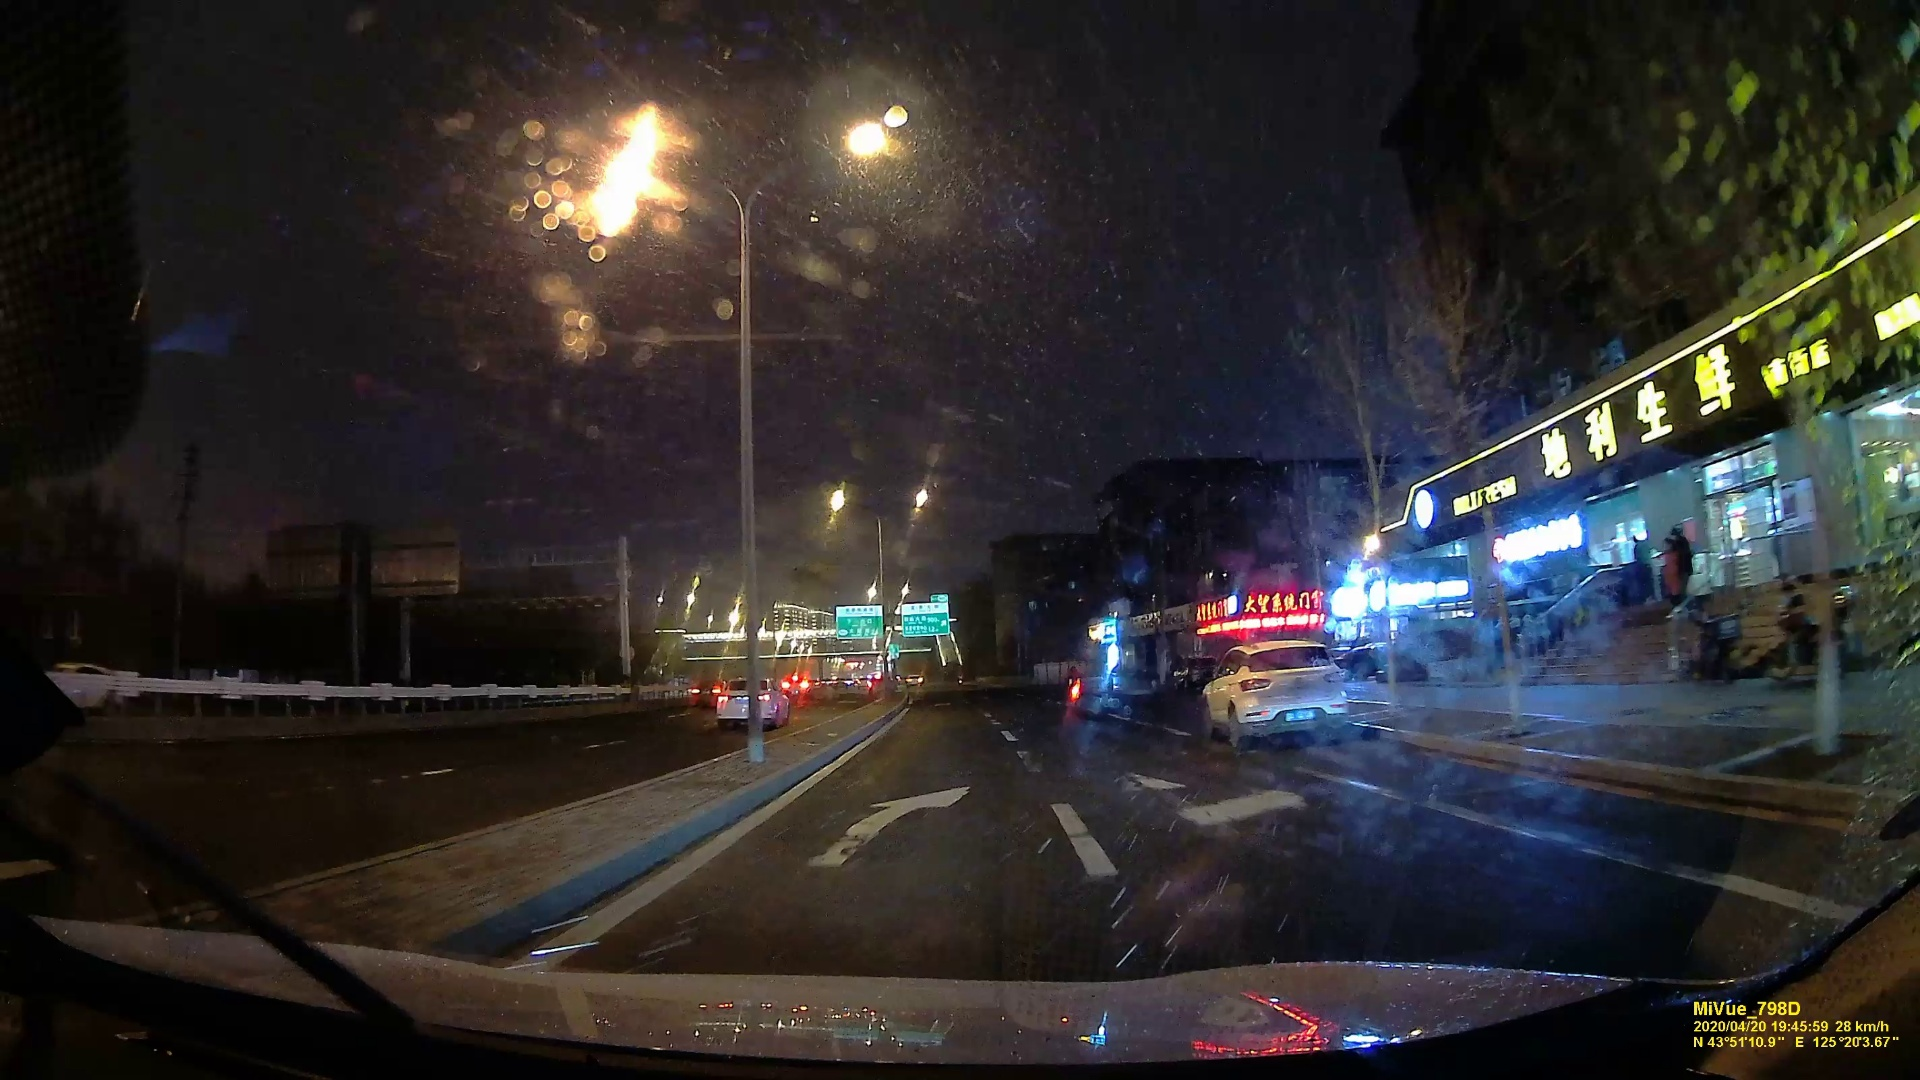person: (1659, 536, 1686, 602)
traffic_sign: (901, 604, 948, 633), (835, 605, 880, 635)
vehicle: (1200, 640, 1348, 752), (714, 680, 785, 729)
